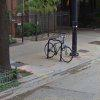Bicycle: (39, 29, 85, 67)
